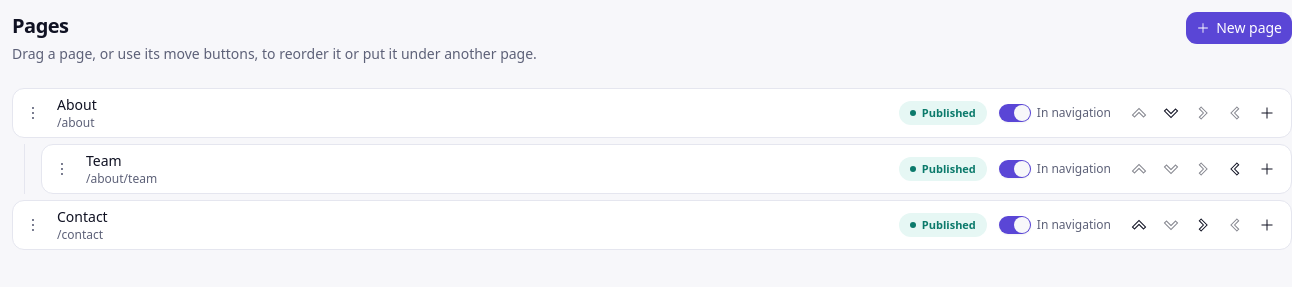
Pages screen › reloads the tree and says someone else changed the page on a 412
Click the button named "Move Contact into the page above". click: coordinates (1203, 225)
box: [1187, 209, 1219, 241]
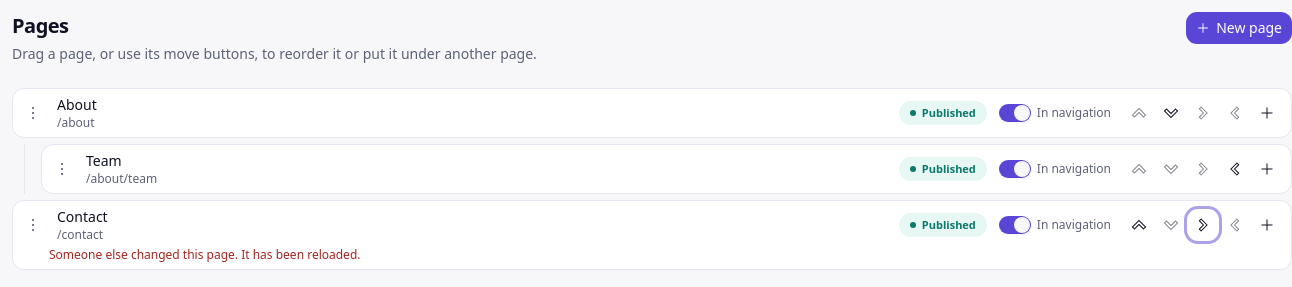
Expected: the message reads "Someone else changed this page. It has been reloaded.", [49, 246, 360, 263]
